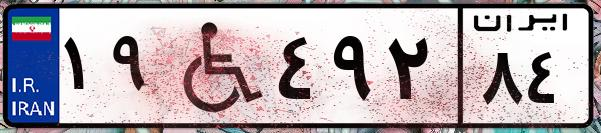1: (57, 26, 110, 100)
2: (385, 28, 445, 110)
4: (270, 28, 330, 110), (525, 38, 570, 115)
8: (475, 38, 525, 113)
9: (330, 28, 385, 110), (110, 28, 158, 98)
ژ (معلولین و جانبازان): (158, 12, 270, 120)
